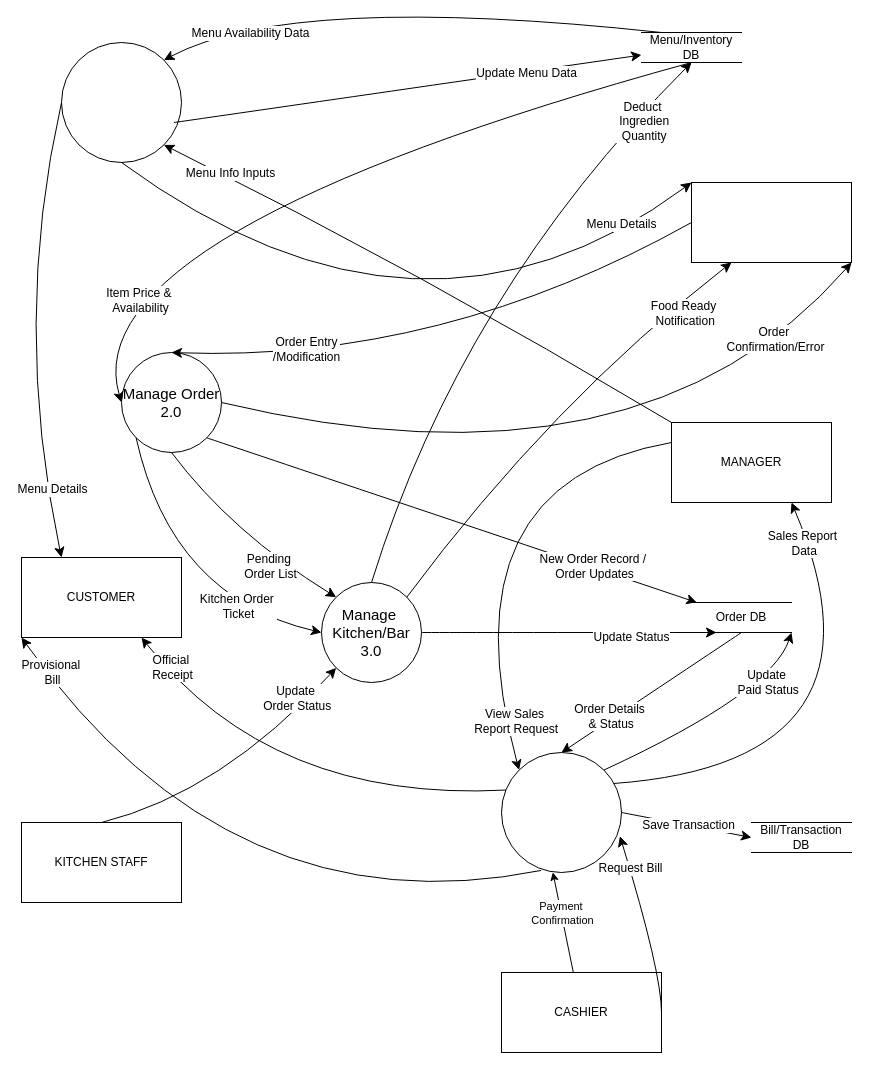
The diagram is 869 pixels wide and 1071 high, and some of its shapes have lost their labels. Each missing label, with the centre of its shape:
Manage menu and Reports 1.0: pixel 121 102
Manage Payments 4.0: pixel 561 812
WAITER: pixel 771 222
